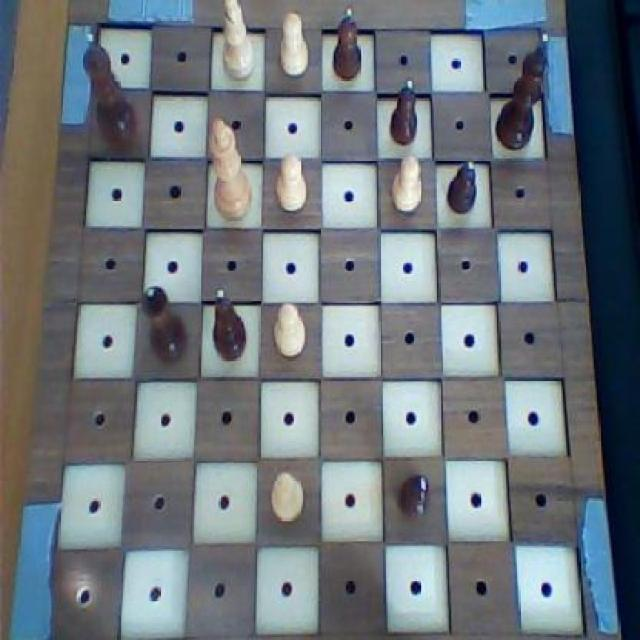bishop: (211, 284, 248, 360)
black-bishop: (491, 32, 549, 154)
black-knight: (329, 5, 364, 84), (386, 74, 422, 149), (443, 158, 479, 218), (394, 472, 433, 523)
black-pawn: (80, 27, 142, 152)
black-queen: (138, 284, 188, 364)
black-rook: (217, 0, 260, 85)
white-bishop: (205, 114, 258, 225)
white-knight: (274, 8, 311, 82), (266, 469, 307, 526), (274, 150, 308, 218), (388, 152, 424, 216), (272, 300, 308, 362)
